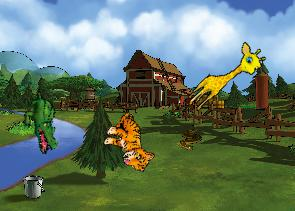crocodile: (11, 87, 73, 156)
giraffe: (183, 37, 269, 121)
tiger: (96, 108, 166, 175)
